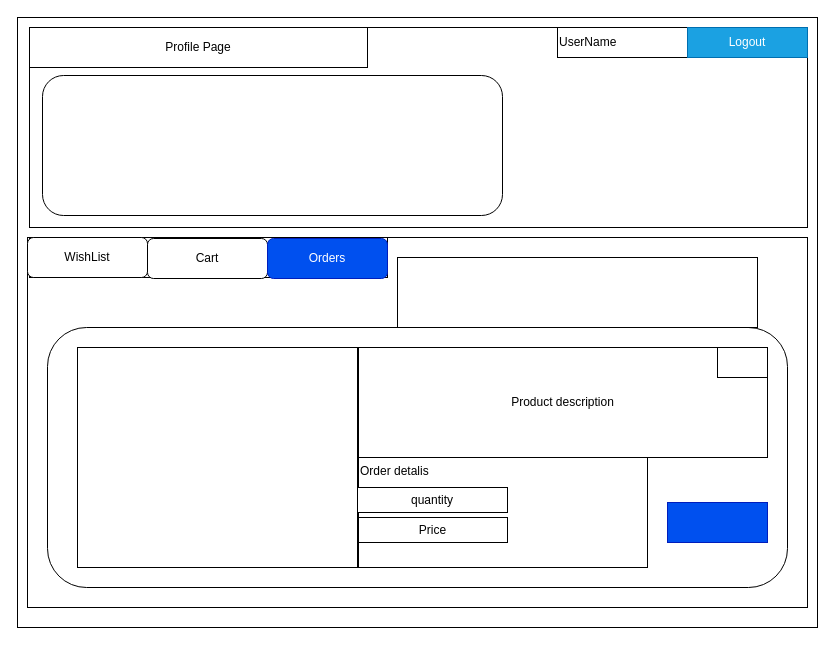
This 835x645 diagram has some shape labels left out. The shapes that lost their labels are listed below. From the top down, each one's centre as x and y in pixels, then its label:
[272,145]: Address
[577,292]: Search products
[742,362]: Remove
[217,457]: Product Image
[717,522]: Checkout
